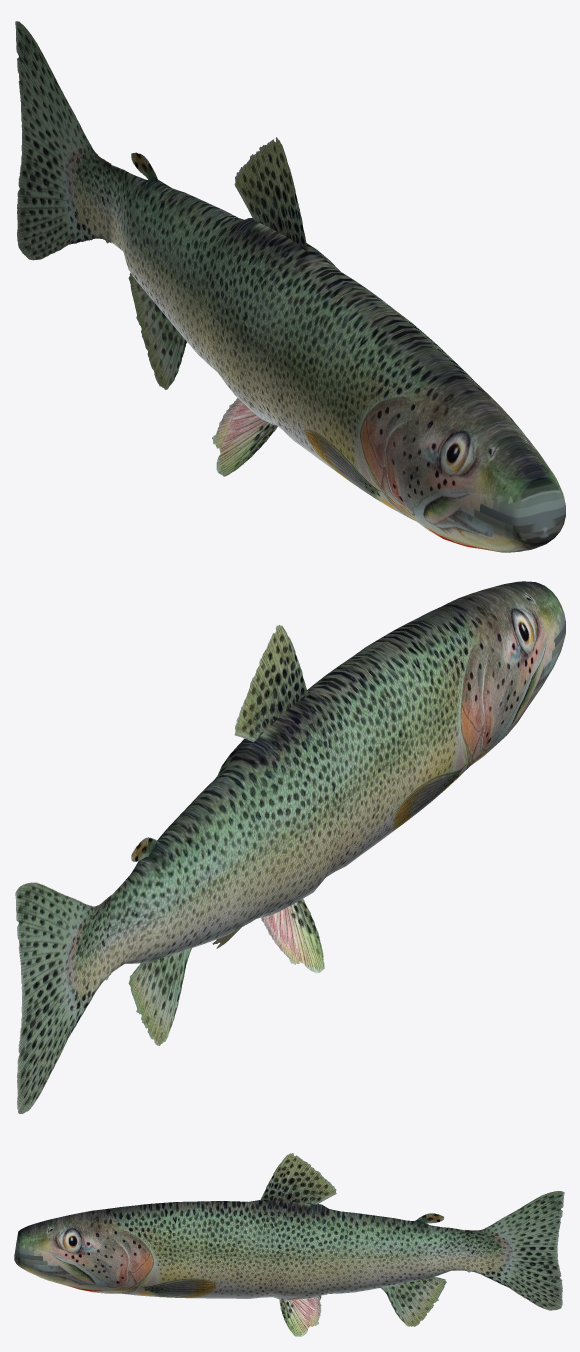
The model's file is trout_cutthroat.glb.
3 renders of one model, top to bottom at view 1: azimuth 30°, elevation 25°; view 2: azimuth 150°, elevation 25°; view 3: azimuth 270°, elevation 25°, orthographic. The views are drawn at different scales.
Parts seen in each view (by area): view 1: Trout_Cutthroat; view 2: Trout_Cutthroat; view 3: Trout_Cutthroat.
Part boxes in pixels (x1,y1,x2,y2): Trout_Cutthroat: (15,21,565,552); Trout_Cutthroat: (15,581,565,1113); Trout_Cutthroat: (14,1153,564,1336).
Size of the model in its own units: 0.0432 by 0.1348 by 0.3811.
Materials: 2 (2 with a texture image).
